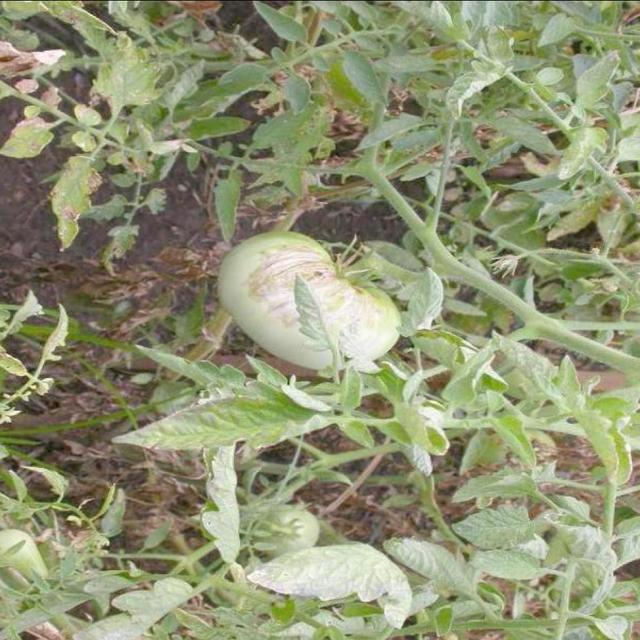Sunscald Fruit: (161, 163, 260, 241)
